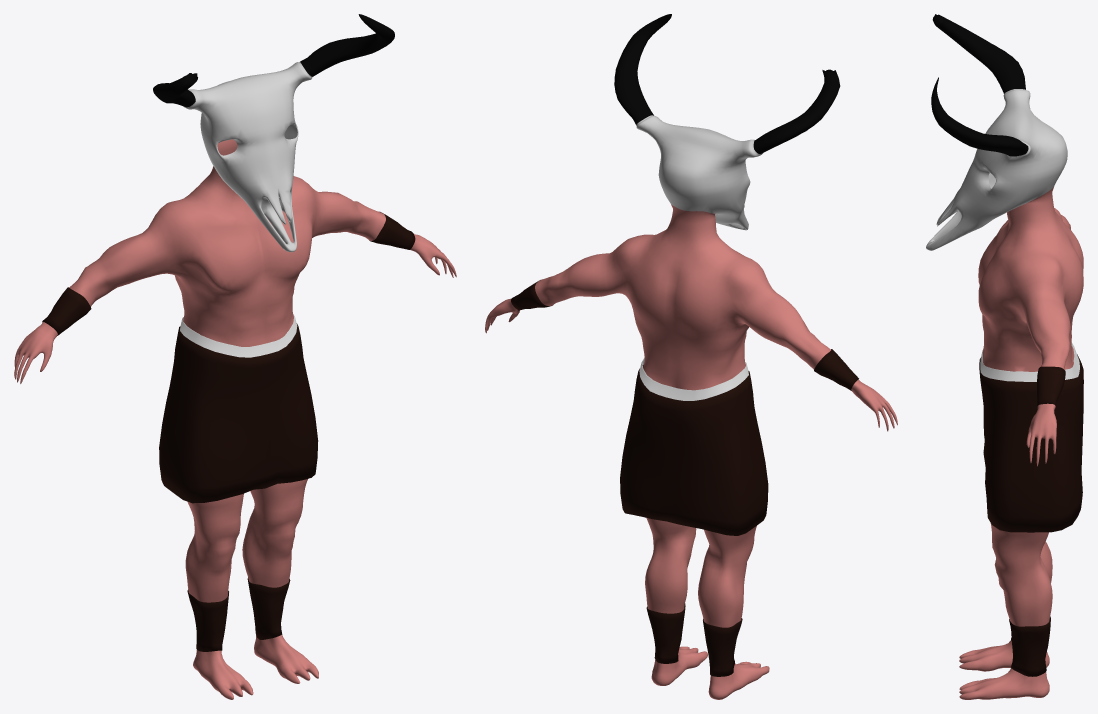
Rendered from Enemy_Ver_3.obj.
The picture shows the model from 3 angles, left to right: view 1: azimuth 30°, elevation 25°; view 2: azimuth 150°, elevation 25°; view 3: azimuth 270°, elevation 25°; orthographic projection. The views are drawn at different scales.
Visible parts, largest first — view 1: LP_mesh.001; view 2: LP_mesh.001; view 3: LP_mesh.001.
Boxes of the visible parts, x1,y1,x2,y2 form: LP_mesh.001: (14, 14, 456, 699); LP_mesh.001: (485, 14, 897, 699); LP_mesh.001: (926, 14, 1083, 699).
Size of the model in its own units: 1.52 by 2.23 by 0.4972.
